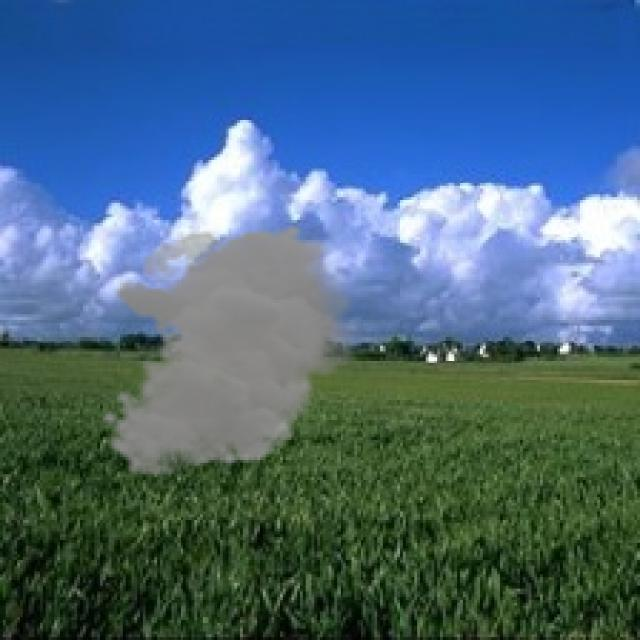smoke: (100, 223, 366, 477)
